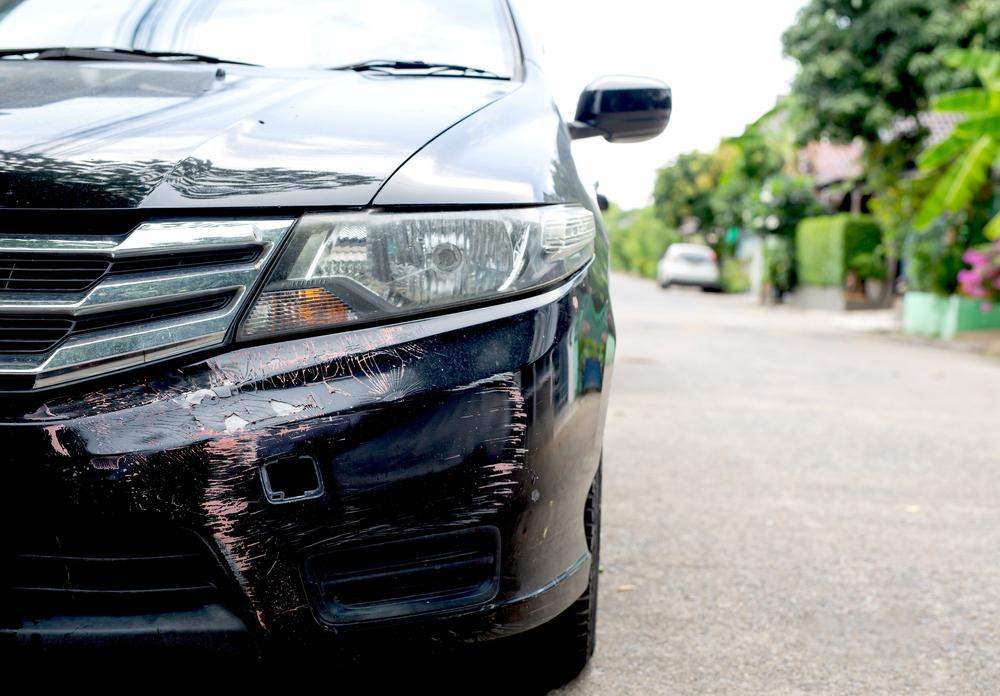scratch: (41, 327, 531, 632)
